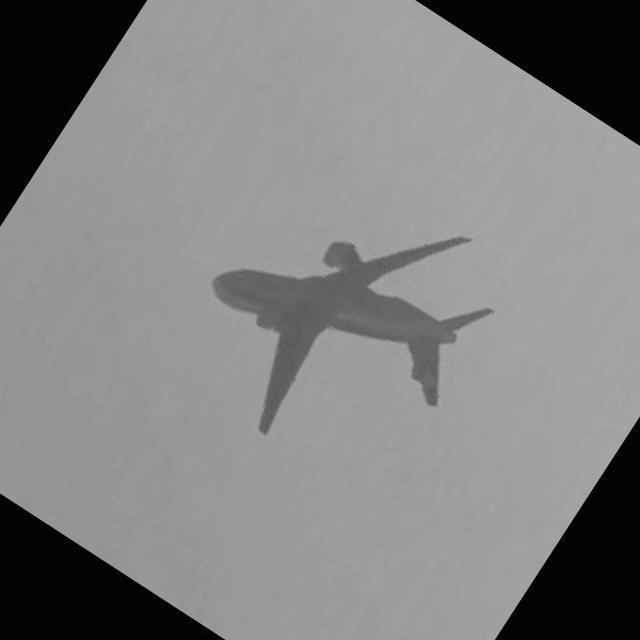aeroplane: (153, 130, 532, 511)
